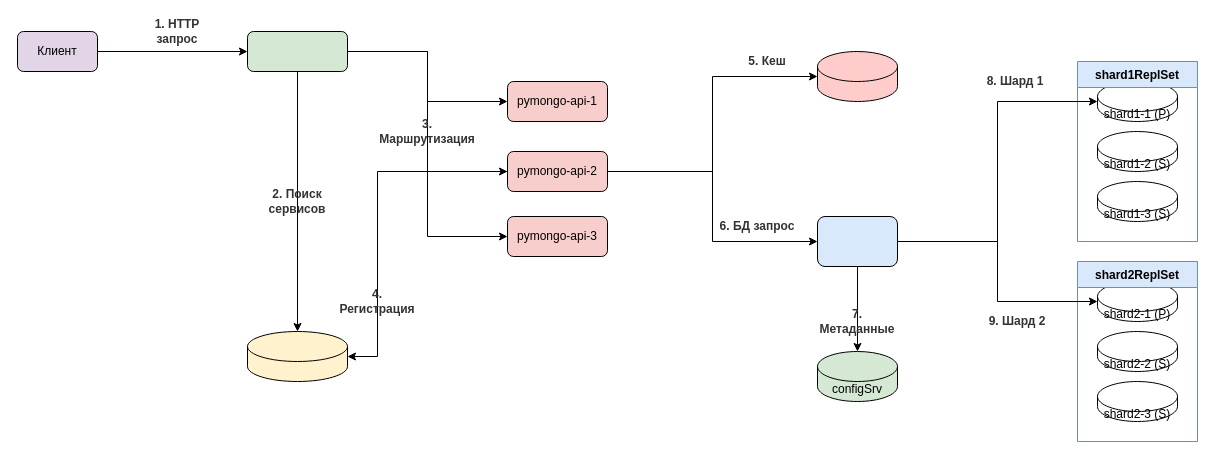
Image size: 1215x459. Some labels were removed from this diagram. The centre of each missing label's shape, as x and y in pixels:
API Gateway: the point at 297,51
Consul: the point at 297,356
mongos: the point at 857,241
Redis: the point at 857,76
